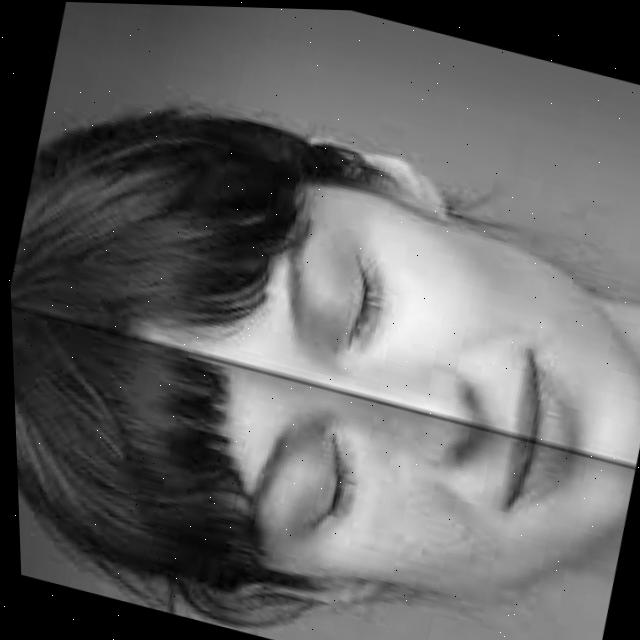Rosacea: (343, 468, 500, 606)
